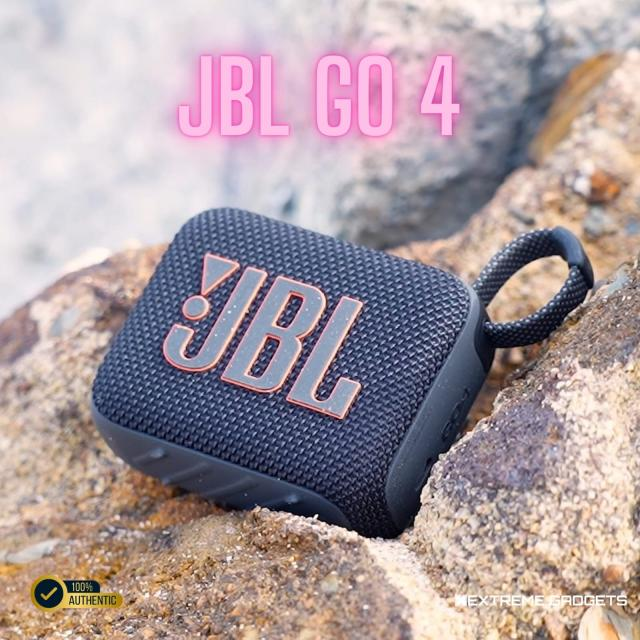column JBL: (92, 210, 592, 538)
